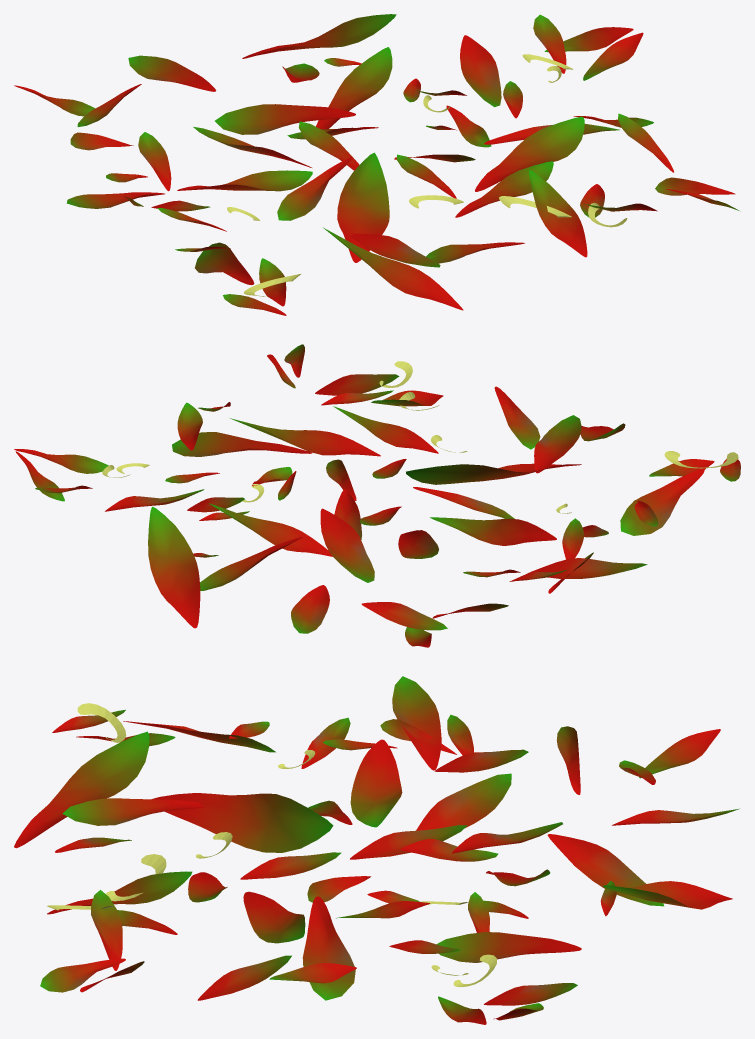
File: Dead leaves.fbx
The picture shows the model from 3 angles, top to bottom: view 1: azimuth 30°, elevation 25°; view 2: azimuth 150°, elevation 25°; view 3: azimuth 270°, elevation 25°; orthographic projection. The views are drawn at different scales.
Visible parts, largest first — view 1: GS Autumn dead leaves 03; view 2: GS Autumn dead leaves 03; view 3: GS Autumn dead leaves 03.
Boxes of the visible parts, x1,y1,x2,y2 form: GS Autumn dead leaves 03: [14, 14, 740, 315]; GS Autumn dead leaves 03: [14, 344, 740, 647]; GS Autumn dead leaves 03: [14, 676, 739, 1024].
Bounding box in the file's own units: 0.7656 × 0.0728 × 0.6859.
